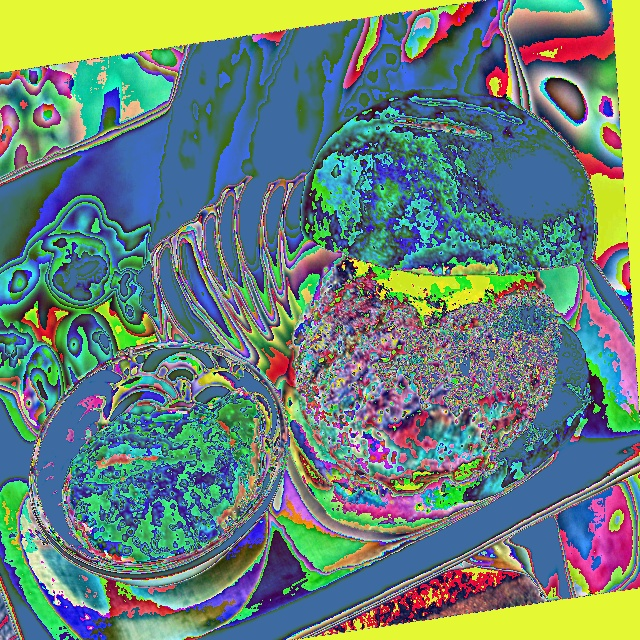background: (0, 0, 598, 535), (63, 175, 261, 561)
